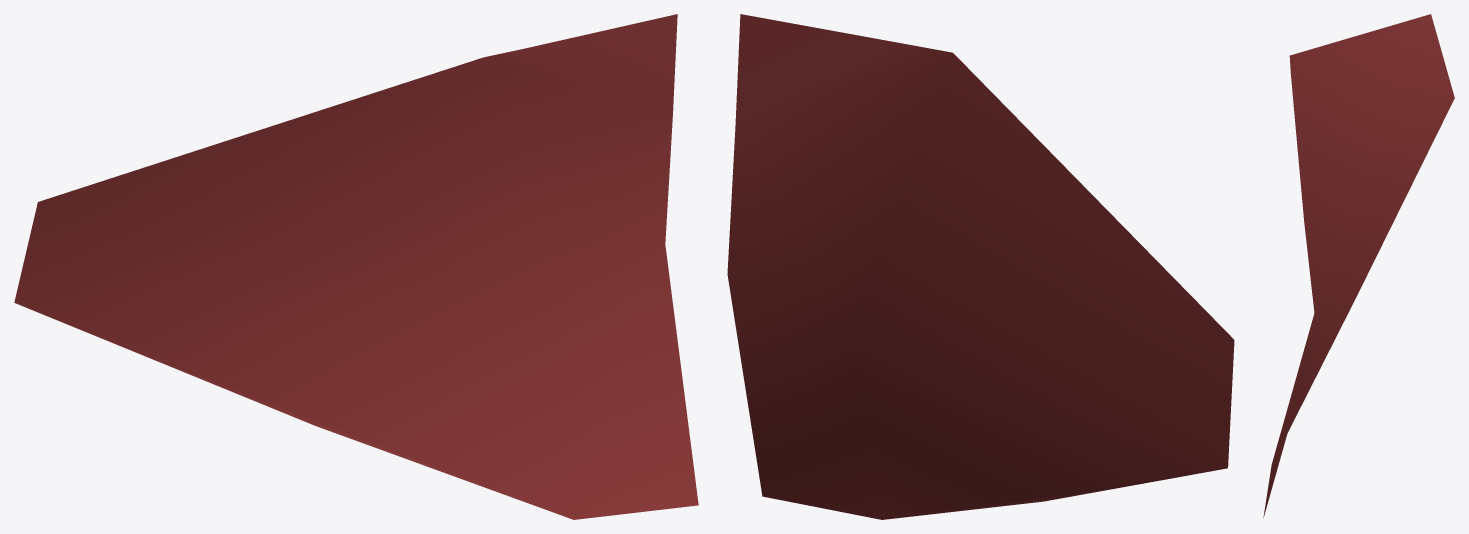
File: orbicularis-oris-muscle-or.glb
3 renders of one model, left to right at view 1: azimuth 30°, elevation 25°; view 2: azimuth 150°, elevation 25°; view 3: azimuth 270°, elevation 25°, orthographic. The views are drawn at different scales.
Visible parts, largest first — view 1: Orbicularis oris muscle.or; view 2: Orbicularis oris muscle.or; view 3: Orbicularis oris muscle.or.
Part boxes in pixels (x1,y1,x2,y2): Orbicularis oris muscle.or: (14,14,698,519); Orbicularis oris muscle.or: (727,14,1234,519); Orbicularis oris muscle.or: (1263,14,1454,518).
Size of the model in its own units: 0.00613 by 0.00503 by 0.00226.
